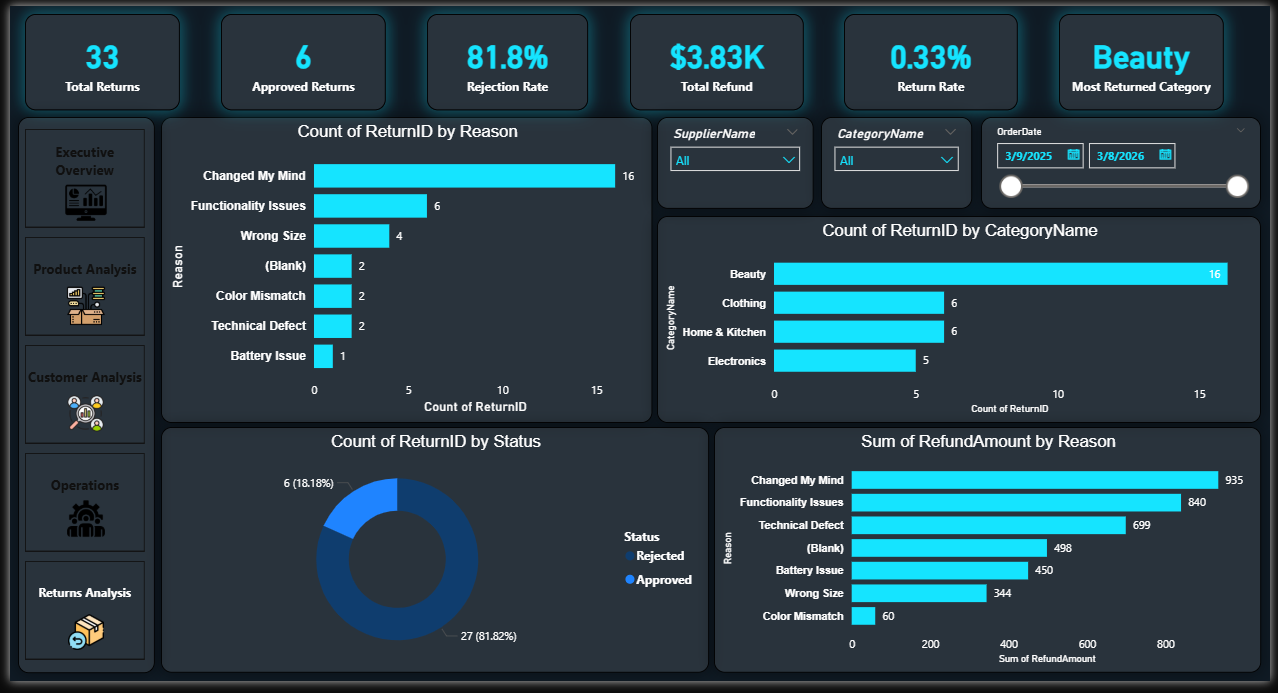

This screenshot's page, from the dashboard's own definition file:
{"tool":"powerbi","page":{"name":"Returns Analysis","canvas":[1400,750],"ordinal":4},"visuals":[{"type":"clusteredBarChart","fields":{"Category":["Returns.Reason"],"Y":["CountNonNull(Returns.ReturnID)"]},"box":[168,123,546,340],"z":0},{"type":"clusteredBarChart","fields":{"Category":["Categories.CategoryName"],"Y":["CountNonNull(Returns.ReturnID)"]},"box":[718.9,233.3,671.1,230],"z":1000},{"type":"donutChart","fields":{"Category":["Returns.Status"],"Y":["CountNonNull(Returns.ReturnID)"]},"box":[168,468,609,273],"z":2000},{"type":"clusteredBarChart","fields":{"Category":["Returns.Reason"],"Y":["Sum(Returns.RefundAmount)"]},"box":[782.2,467.8,607.8,273.3],"z":3000},{"type":"card","fields":{"Values":["Categories.Total Returns"]},"box":[17,9,172,107],"z":4000},{"type":"card","fields":{"Values":["SupportTickets.Approved Returns"]},"box":[234.8,9,183,107],"z":5000},{"type":"card","fields":{"Values":["Categories.Rejection Rate"]},"box":[463.6,9,179,107],"z":6000},{"type":"card","fields":{"Values":["Categories.Total Refund"]},"box":[688.4,9,193,107],"z":7000},{"type":"card","fields":{"Values":["Categories.Return Rate"]},"box":[927.2,9,193,107],"z":8000},{"type":"card","fields":{"Values":["SupportTickets.Most Returned Category"]},"box":[1166,9,183,107],"z":9000},{"type":"group","id":"g1","title":"Group 1","box":[9,123,152,618],"z":10000},{"type":"image","box":[24,195,119,46],"z":11000},{"type":"image","box":[24,311,119,44],"z":12000},{"type":"image","box":[24,432,119,41],"z":13000},{"type":"shape","box":[9,123,152,618],"z":14000,"group":"g1"},{"type":"image","box":[24,549,119,42],"z":14000},{"type":"image","box":[24,675,119,40],"z":15000},{"type":"slicer","fields":{"Values":["Suppliers.SupplierName"]},"box":[718.9,123.3,174.4,102.2],"z":16000},{"type":"slicer","fields":{"Values":["Categories.CategoryName"]},"box":[901.1,123.3,167.8,102.2],"z":17000},{"type":"slicer","fields":{"Values":["Orders.OrderDate"]},"box":[1078.9,123.3,311.1,102.2],"z":18000},{"type":"pageNavigator","box":[17,136.7,133,590.5],"z":21000,"group":"g1"}]}

Visuals, with their boxes in screenshot pixels (x1, y1, x2, y2), scaled from the page's 1400x750 canvas onto the 1278x693 screenshot:
clusteredBarChart - Returns.Reason x CountNonNull(Returns.ReturnID): [left=153, top=114, right=652, bottom=428]
clusteredBarChart - Categories.CategoryName x CountNonNull(Returns.ReturnID): [left=656, top=216, right=1269, bottom=428]
donutChart - Returns.Status x CountNonNull(Returns.ReturnID): [left=153, top=432, right=709, bottom=685]
clusteredBarChart - Returns.Reason x Sum(Returns.RefundAmount): [left=714, top=432, right=1269, bottom=685]
card - Categories.Total Returns: [left=16, top=8, right=173, bottom=107]
card - SupportTickets.Approved Returns: [left=214, top=8, right=381, bottom=107]
card - Categories.Rejection Rate: [left=423, top=8, right=587, bottom=107]
card - Categories.Total Refund: [left=628, top=8, right=805, bottom=107]
card - Categories.Return Rate: [left=846, top=8, right=1023, bottom=107]
card - SupportTickets.Most Returned Category: [left=1064, top=8, right=1231, bottom=107]
"Group 1" group: [left=8, top=114, right=147, bottom=685]
image: [left=22, top=180, right=131, bottom=223]
image: [left=22, top=287, right=131, bottom=328]
image: [left=22, top=399, right=131, bottom=437]
shape: [left=8, top=114, right=147, bottom=685]
image: [left=22, top=507, right=131, bottom=546]
image: [left=22, top=624, right=131, bottom=661]
slicer - Suppliers.SupplierName: [left=656, top=114, right=815, bottom=208]
slicer - Categories.CategoryName: [left=823, top=114, right=976, bottom=208]
slicer - Orders.OrderDate: [left=985, top=114, right=1269, bottom=208]
pageNavigator: [left=16, top=126, right=137, bottom=672]
